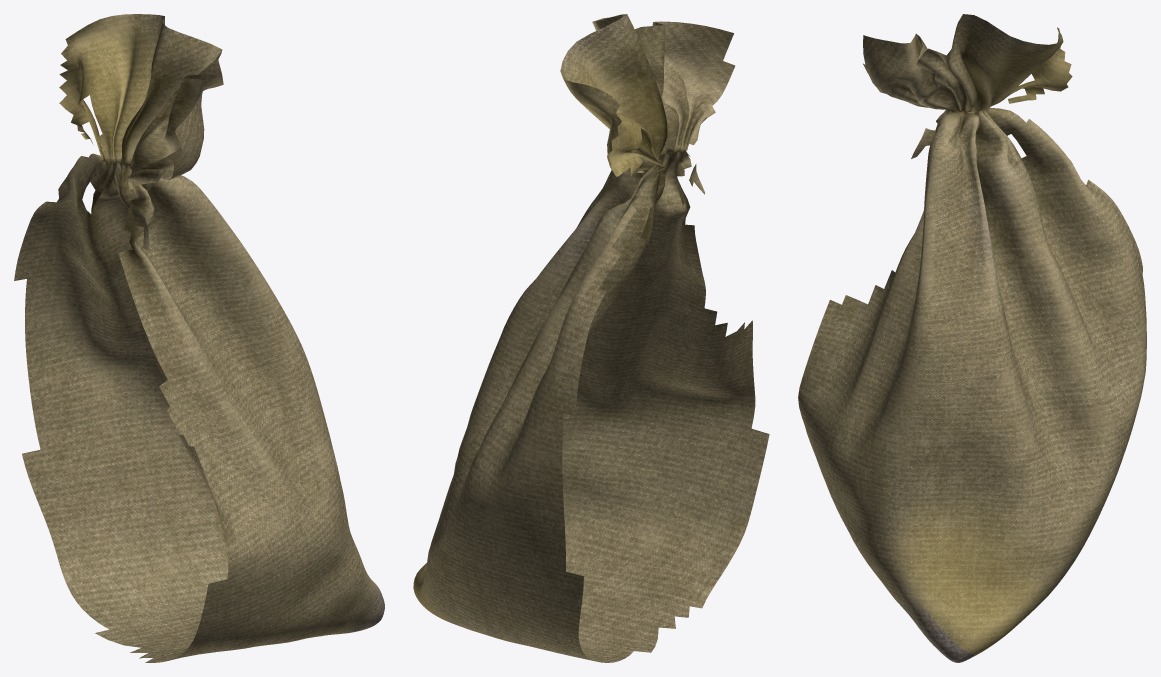
Rendered from Yeast_half_left.fbx.
3 views of the same model, side by side, from view 1: azimuth 30°, elevation 25°; view 2: azimuth 150°, elevation 25°; view 3: azimuth 270°, elevation 25° (orthographic). The views are drawn at different scales.
Parts seen in each view (by area): view 1: Flour_Bag_LP.002; view 2: Flour_Bag_LP.002; view 3: Flour_Bag_LP.002.
Boxes of the visible parts, x1,y1,x2,y2 form: Flour_Bag_LP.002: (14, 14, 384, 662); Flour_Bag_LP.002: (413, 14, 769, 662); Flour_Bag_LP.002: (798, 14, 1146, 662).
Bounding box in the file's own units: 27.48 × 62.56 × 35.07.
Materials: 1 (1 with a texture image).
